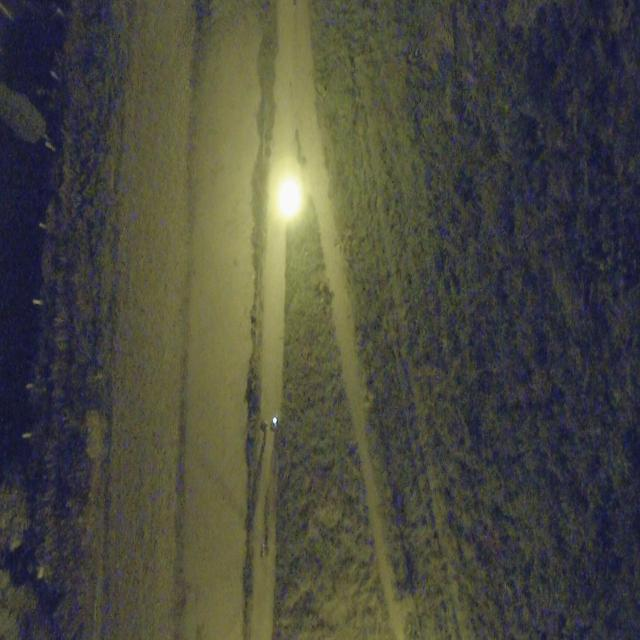p3rson: (270, 419, 281, 434), (260, 544, 268, 558), (260, 420, 268, 432), (289, 0, 297, 6)
